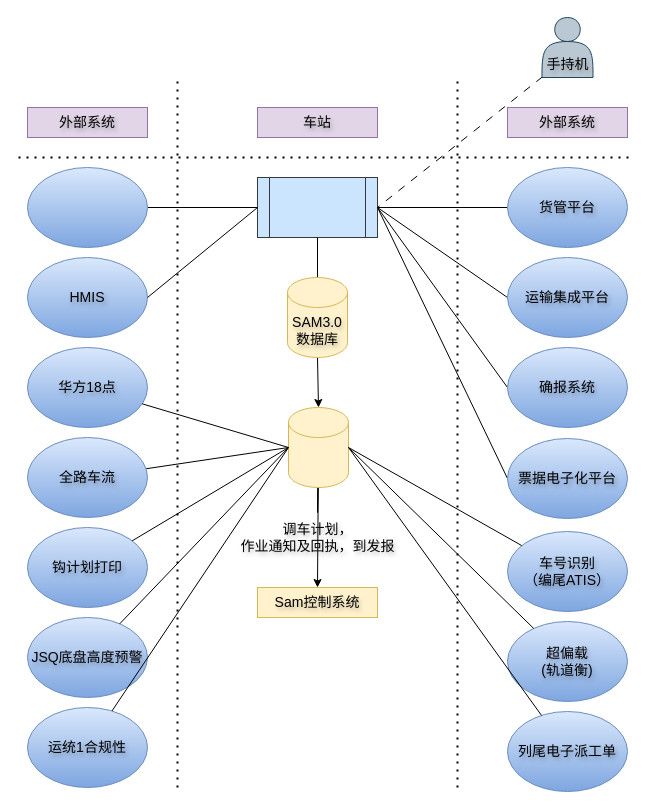
This 647x809 diagram has some shape labels left out. Each missing label, with the centre of its shape:
"SAM3.0应用" goes at point (317, 207).
"Smis2.9 数据库" goes at point (318, 447).
"（新版）局站一体化接口" goes at point (87, 207).
